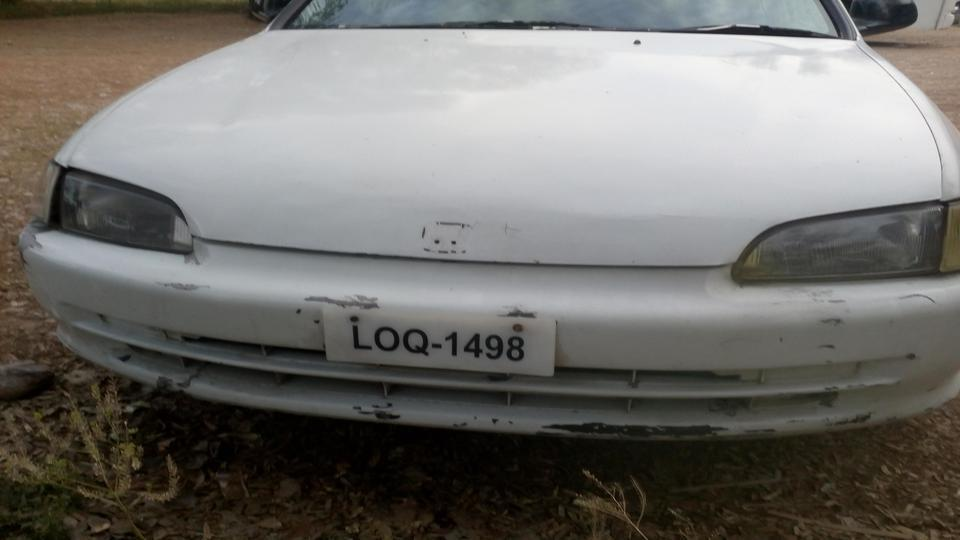NumberPlate: (323, 311, 558, 381)
